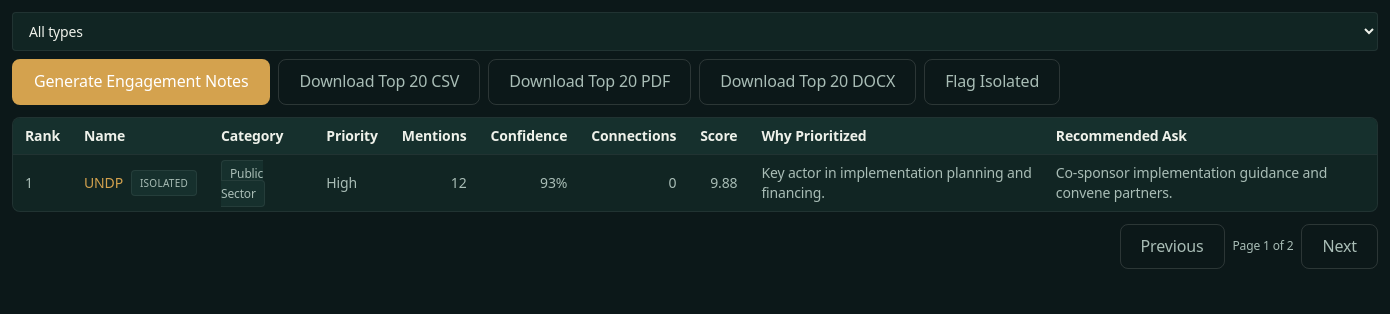
Test case: StakeholderPriorityTable › uses LLM error renderer when generation request fails
This screenshot has width=1390, height=314.
Step 1. Click the button "Generate Engagement Notes" → (141, 82), box [12,59,270,105]
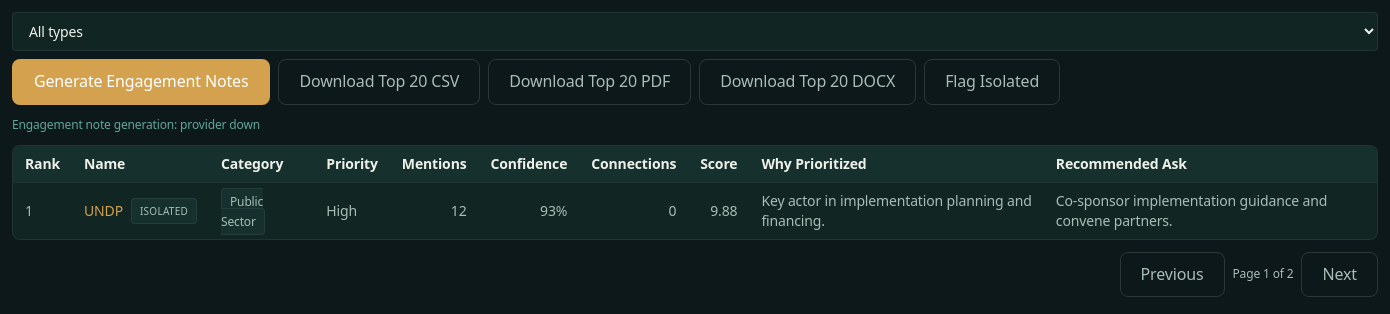
Check: the text "Engagement note generation: provider down" is shown, box [12,116,260,133]
